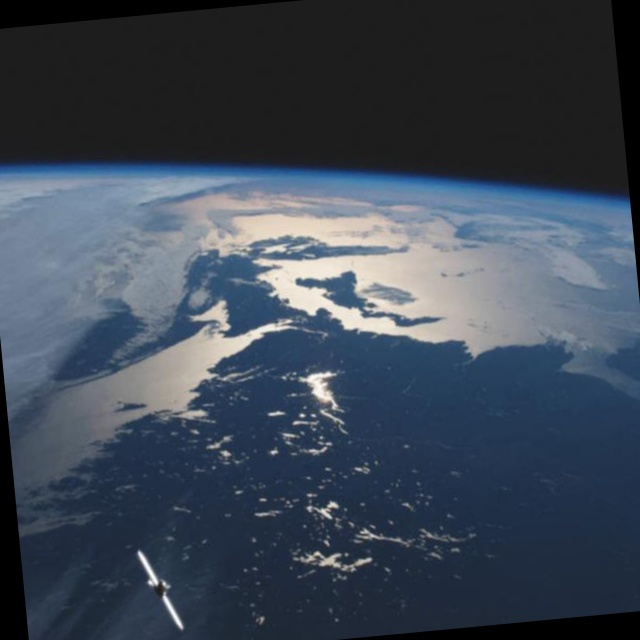satellite: (105, 525, 164, 631)
